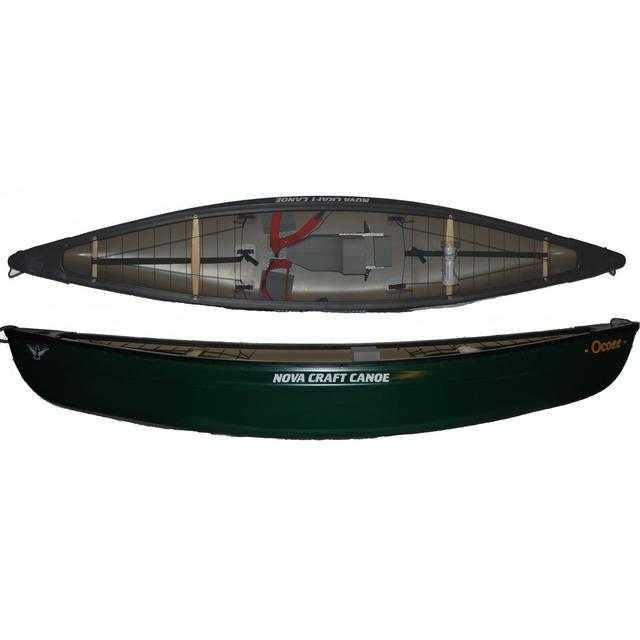kayak: (4, 192, 639, 440)
